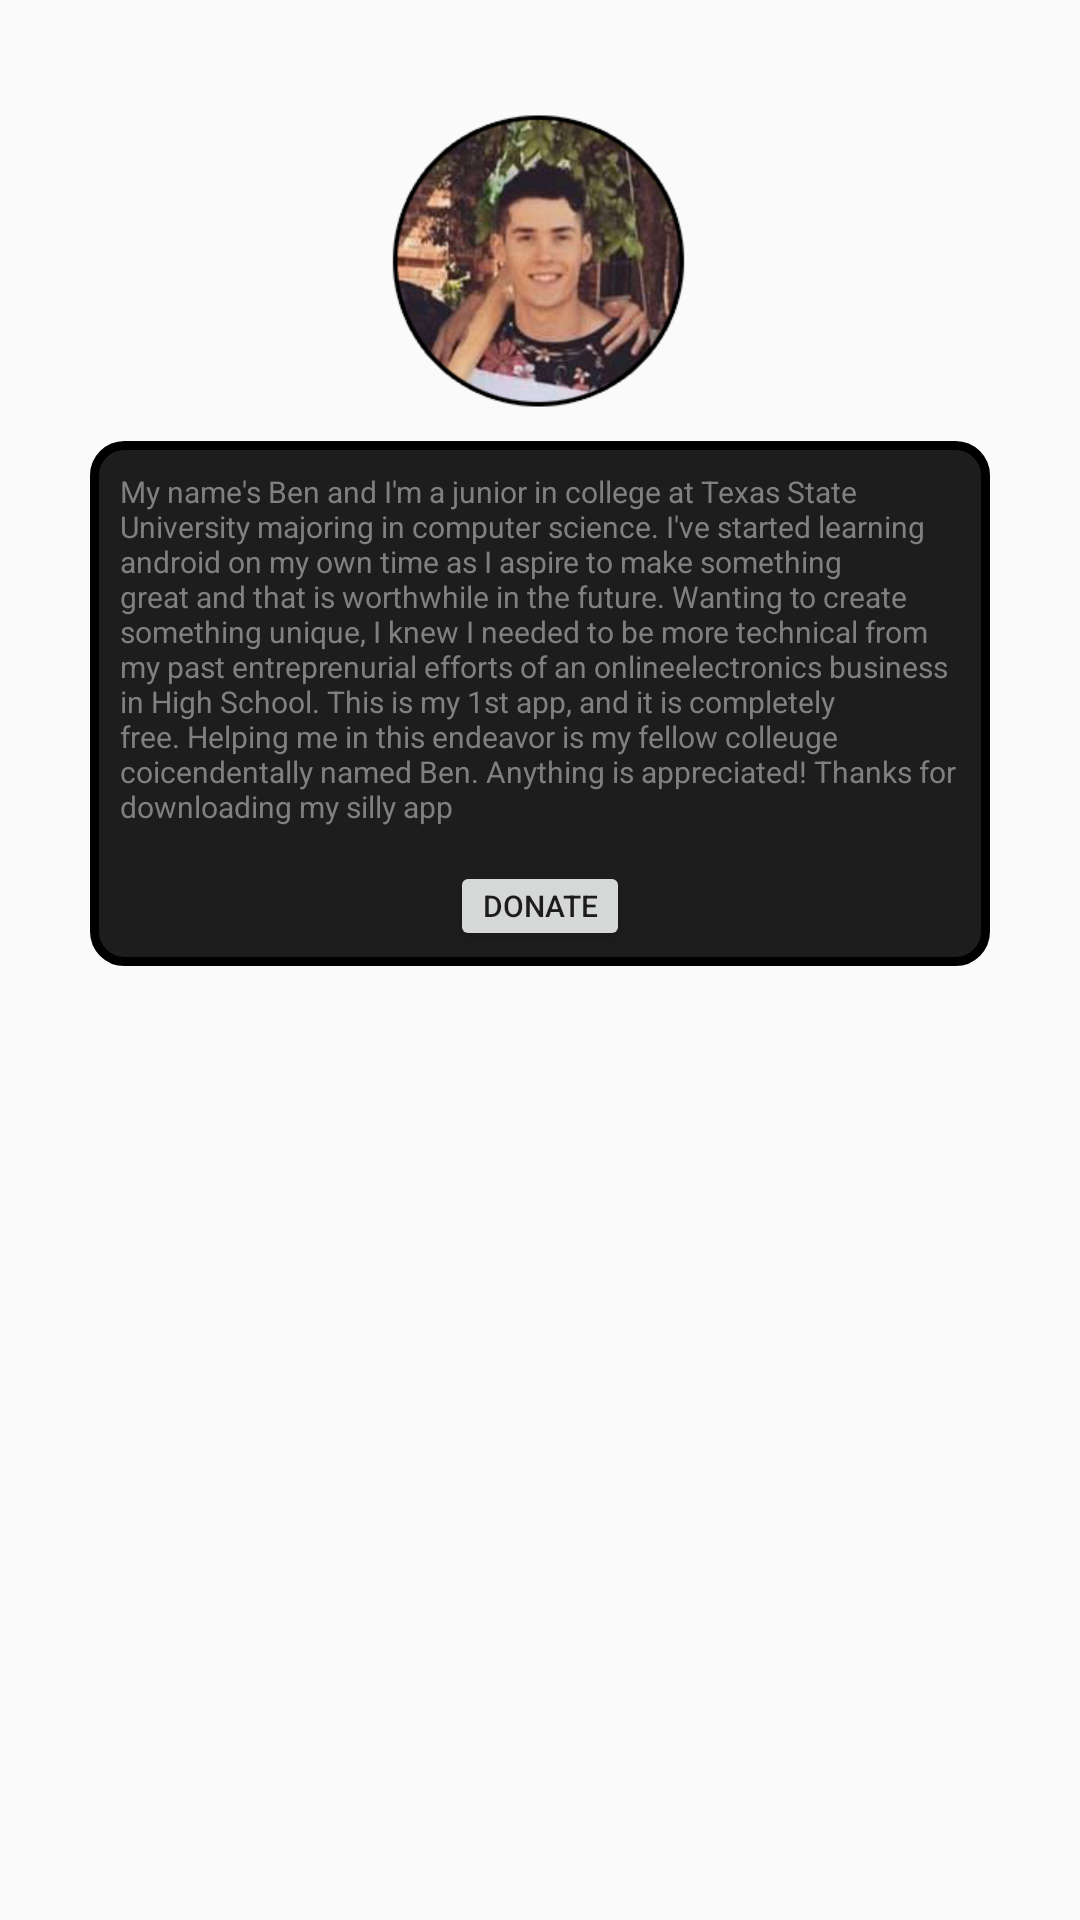

Screen size 1080*1920. Icon name, then its center in pixels as (x=x, y=y):
aboutme: (x=538, y=261)
